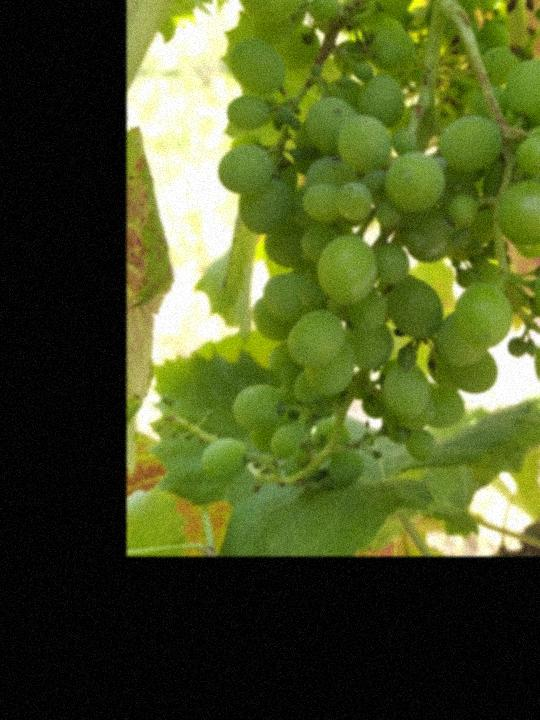grape: (196, 0, 540, 505)
